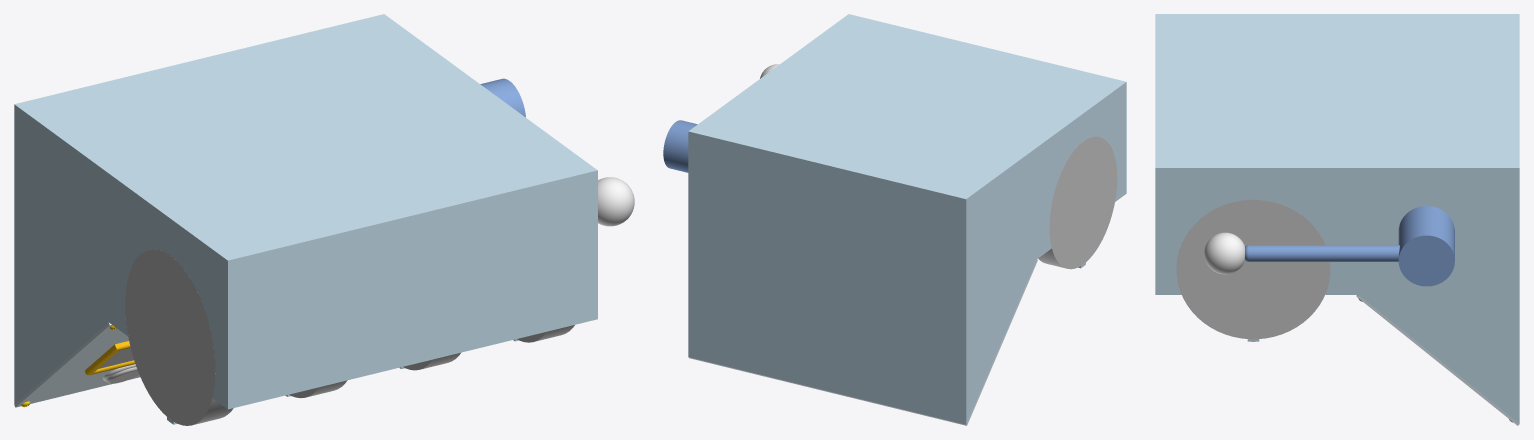
Rendered from tech-stack-slot-machine.gltf.
3 views of the same model, side by side, from view 1: azimuth 30°, elevation 25°; view 2: azimuth 150°, elevation 25°; view 3: azimuth 270°, elevation 25° (orthographic). The views are drawn at different scales.
Parts seen in each view (by area): view 1: main-body, spinner-housing, faceplate, handle-knob, handle-body, display-border; view 2: main-body, spinner-housing, handle-body, faceplate; view 3: main-body, spinner-housing, handle-body, handle-knob, faceplate.
Boxes of the visible parts, x1,y1,x2,y2 form: main-body: (14,14,597,409); spinner-housing: (125,249,574,425); faceplate: (14,322,140,407); handle-knob: (598,177,634,226); handle-body: (480,78,525,117); display-border: (84,341,135,375); main-body: (688,14,1126,424); spinner-housing: (1038,136,1117,269); handle-body: (663,120,697,172); faceplate: (688,259,1037,425); main-body: (1155,14,1519,423); spinner-housing: (1176,199,1330,339); handle-body: (1245,206,1454,286); handle-knob: (1204,232,1244,274); faceplate: (1356,295,1519,425).
Size of the model in its own units: 0.0397 by 0.0258 by 0.033.
